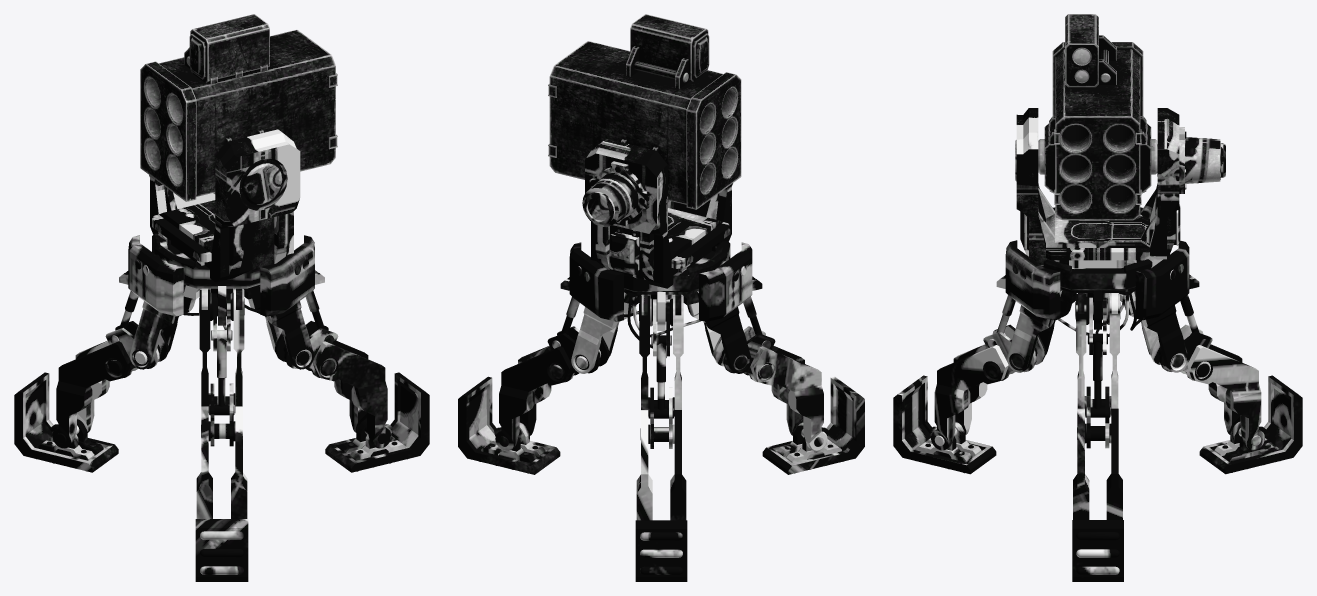
The model's file is Missile_Turret0.fbx.
The picture shows the model from 3 angles, left to right: view 1: azimuth 30°, elevation 25°; view 2: azimuth 150°, elevation 25°; view 3: azimuth 270°, elevation 25°; orthographic projection. The views are drawn at different scales.
Parts seen in each view (by area): view 1: S_Base, S_Head_Missile, S_Mount; view 2: S_Base, S_Head_Missile, S_Mount; view 3: S_Base, S_Head_Missile, S_Mount.
Part boxes in pixels (box(x1,y1,x2,y2)): S_Base: box(14, 233, 429, 581); S_Head_Missile: box(140, 14, 337, 201); S_Mount: box(149, 129, 300, 282); S_Base: box(458, 241, 864, 581); S_Head_Missile: box(548, 14, 741, 209); S_Mount: box(582, 138, 732, 288); S_Base: box(893, 240, 1302, 581); S_Head_Missile: box(1038, 14, 1157, 220); S_Mount: box(1015, 108, 1225, 268).
Bounding box in the file's own units: 137 × 197 × 156.
